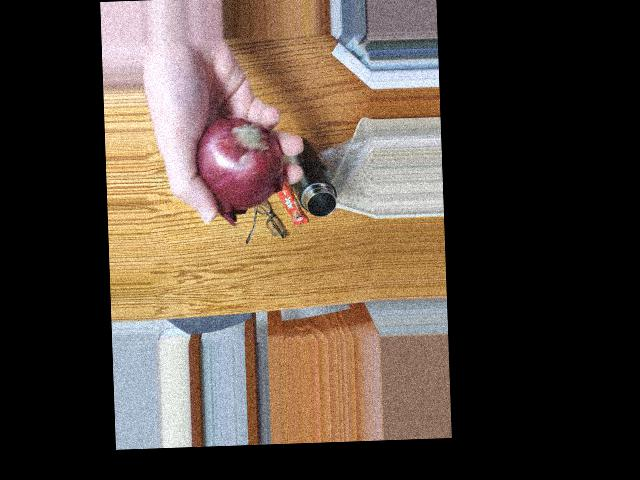onion: (197, 120, 282, 208)
